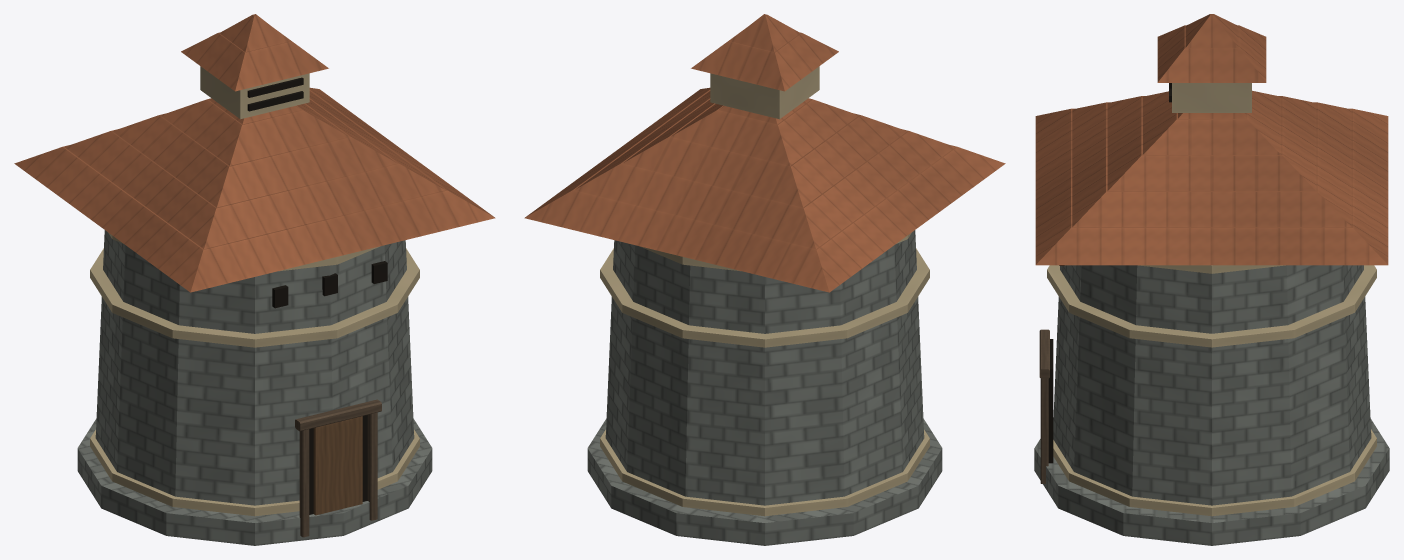
Rendered from medieval-dovecote.glb.
3 renders of one model, left to right at view 1: azimuth 30°, elevation 25°; view 2: azimuth 150°, elevation 25°; view 3: azimuth 270°, elevation 25°, orthographic.
Visible parts, largest first — view 1: medieval-dovecote; view 2: medieval-dovecote; view 3: medieval-dovecote.
Part boxes in pixels (x1,y1,x2,y2): medieval-dovecote: (14,14,495,545); medieval-dovecote: (524,14,1005,545); medieval-dovecote: (1034,14,1389,545).
Size of the model in its own units: 0.86 by 1.22 by 0.86.
1 material, 1 textured.
